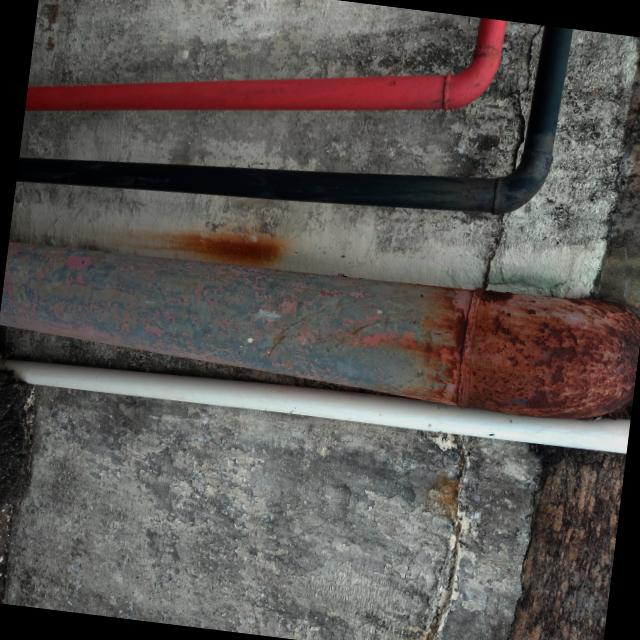gas: (0, 241, 640, 421), (14, 25, 572, 213), (17, 361, 628, 452), (23, 17, 503, 112)
